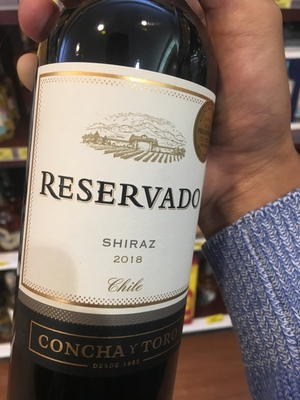reservado shiraz: (3, 37, 217, 400)
